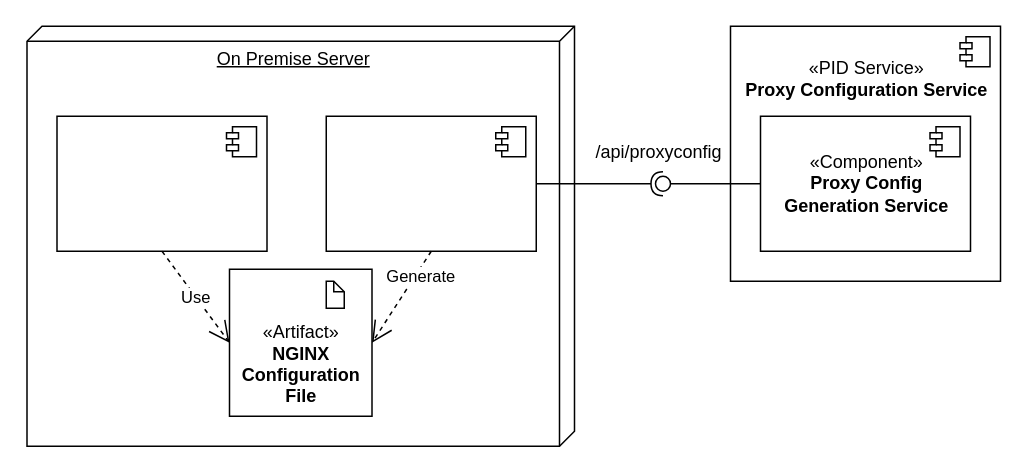
Some shapes in this 1026 by 473 pixel diagram are drawn without their labels. The shapes that lost their labels are listed below. From the top down, each one's centre as x and y in pixels, then its label:
(161,183): «Application» NGINX Server
(430,183): «Component» NGINX Config Reload Service
